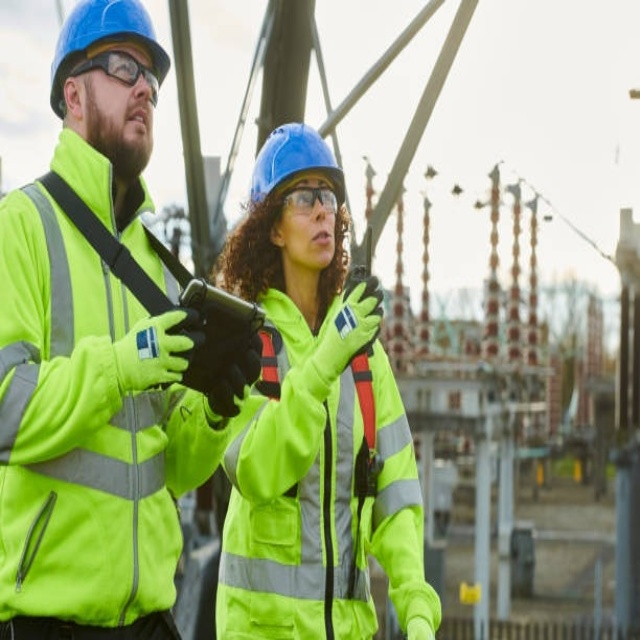Gafas: (69, 49, 162, 107), (281, 188, 339, 215)
Guantes: (304, 275, 386, 390), (111, 309, 199, 399), (181, 320, 260, 420)
Sin_mascara: (119, 108, 152, 143), (306, 224, 337, 260)
